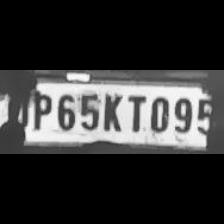0: (146, 93, 170, 133)
5: (76, 90, 100, 132), (193, 94, 215, 135)
6: (52, 90, 76, 132)
9: (171, 94, 193, 134)
K: (98, 90, 124, 134)
P: (29, 88, 52, 130)
T: (124, 92, 146, 134)
U: (7, 86, 29, 128)
